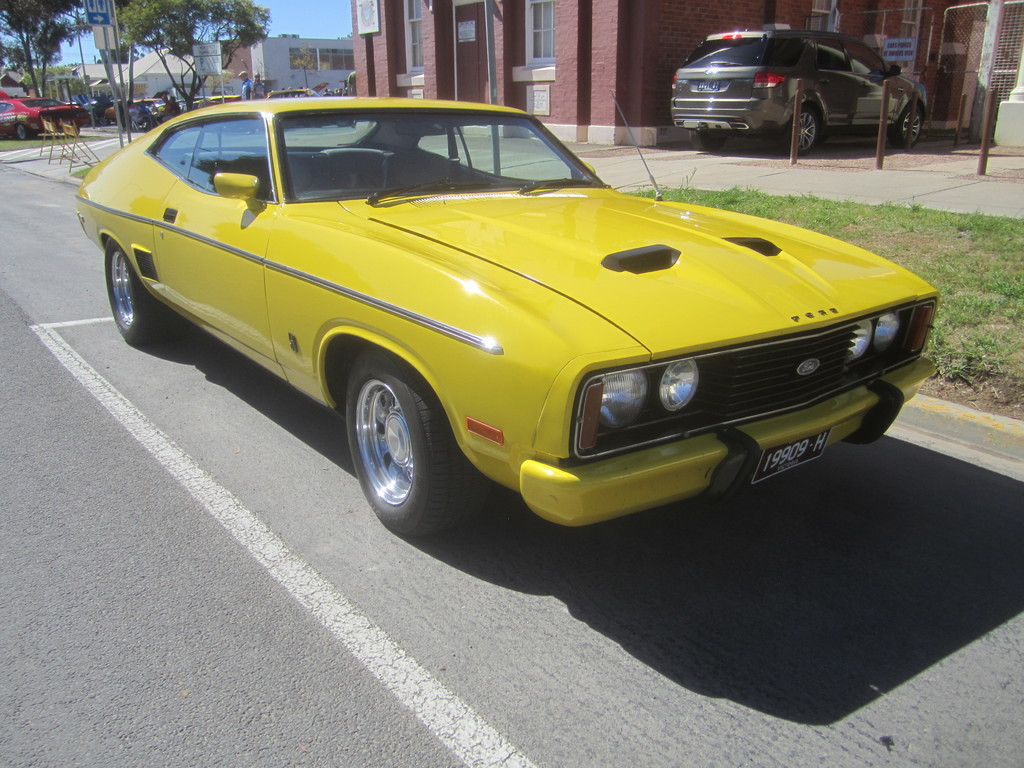mobil: (82, 88, 946, 566), (670, 29, 930, 147)
